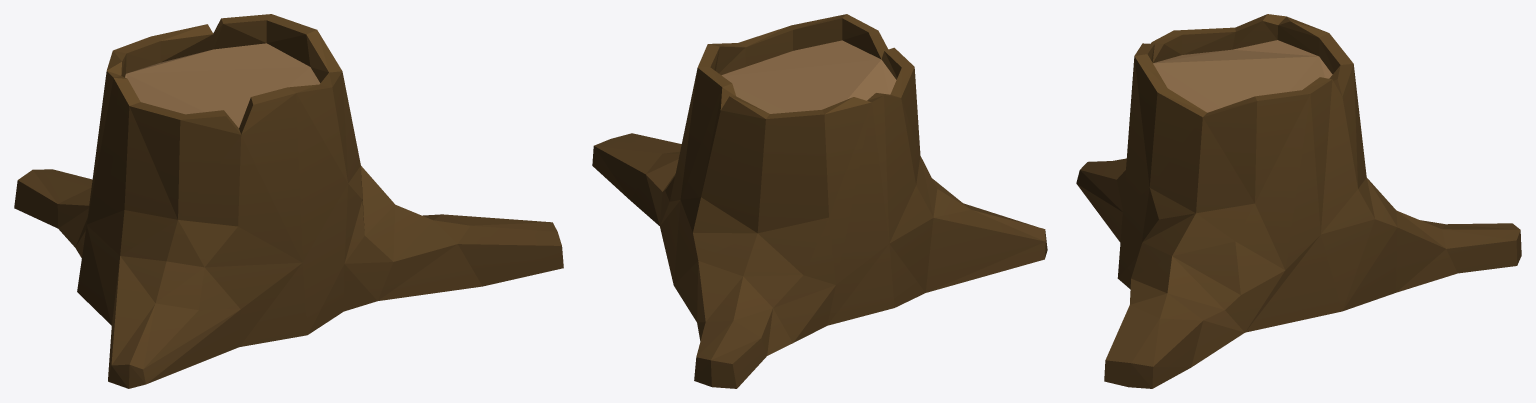
File: Stump_01.fbx
The picture shows the model from 3 angles, left to right: view 1: azimuth 30°, elevation 25°; view 2: azimuth 150°, elevation 25°; view 3: azimuth 270°, elevation 25°; orthographic projection. The views are drawn at different scales.
Parts seen in each view (by area): view 1: Stump_01; view 2: Stump_01; view 3: Stump_01.
Part boxes in pixels (x1,y1,x2,y2): Stump_01: (14,14,563,388); Stump_01: (592,14,1047,388); Stump_01: (1076,14,1521,388).
Bounding box in the file's own units: 1.22 × 0.6017 × 1.06.
